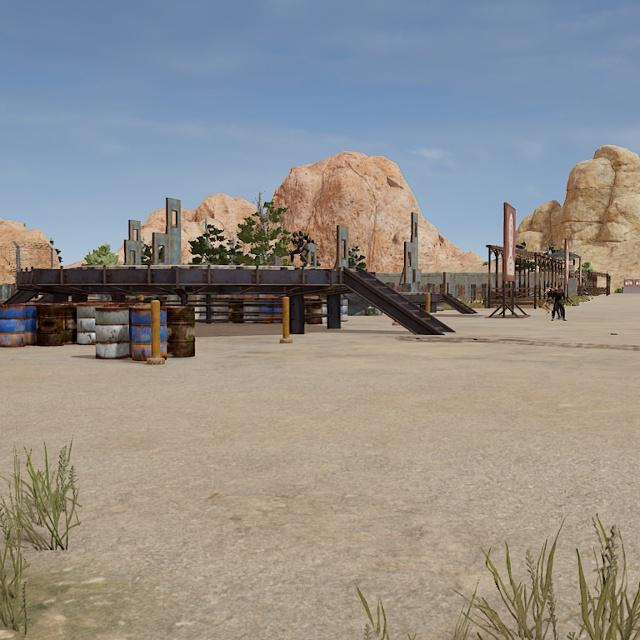head: (557, 283, 564, 292), (292, 232, 299, 241), (545, 282, 551, 289)
people: (289, 231, 310, 268), (551, 283, 567, 321), (541, 282, 553, 316)
